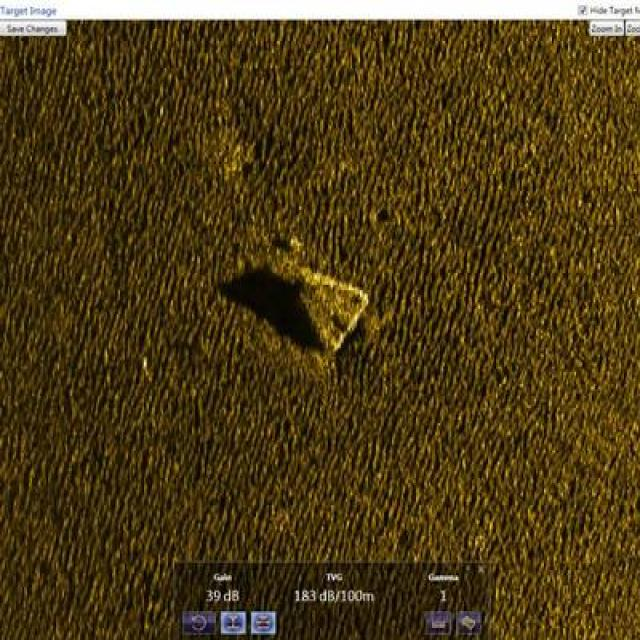other: (262, 249, 370, 355)
